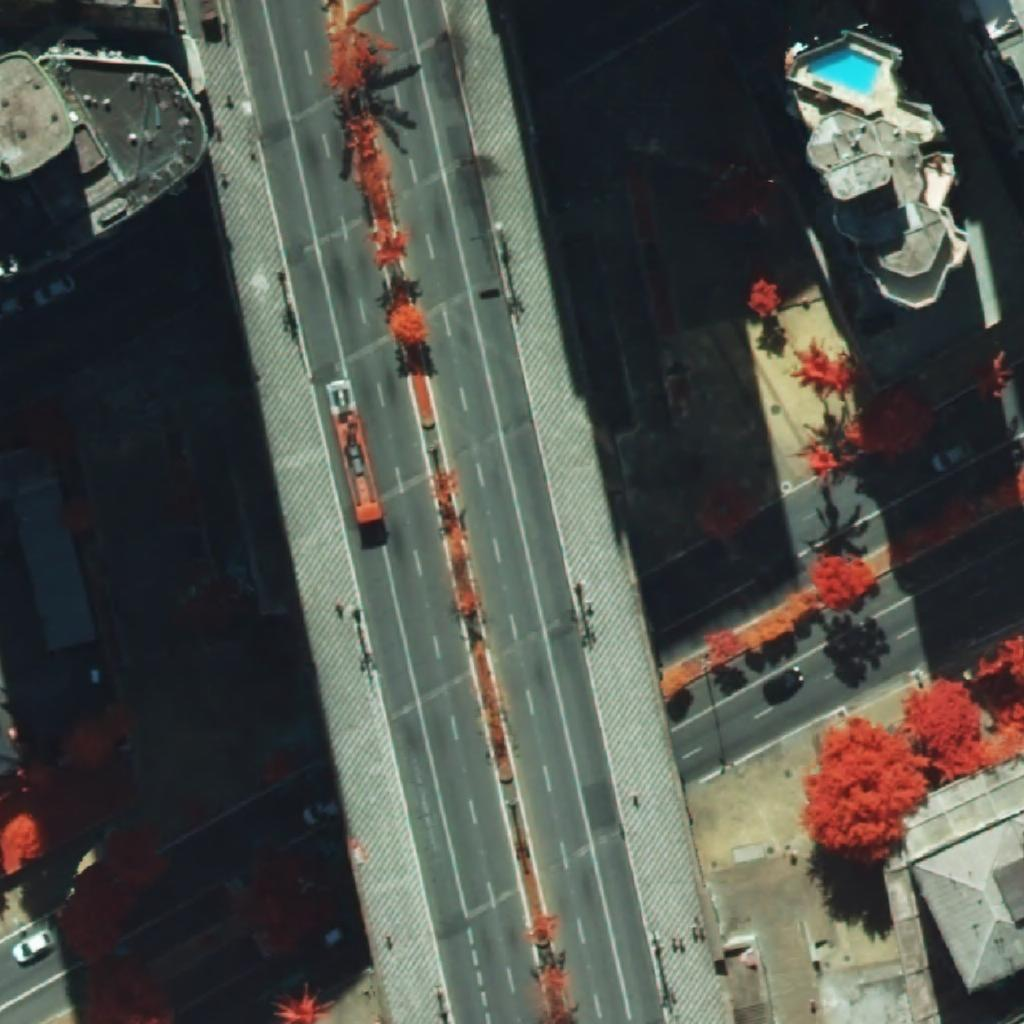pool: (807, 48, 880, 95)
